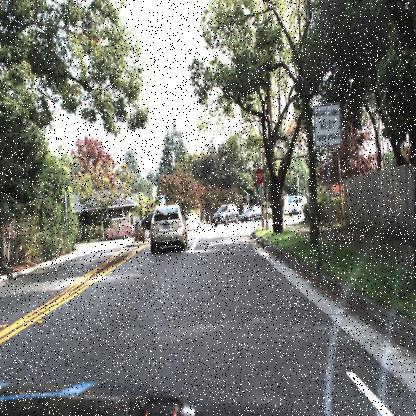car: (148, 202, 192, 251), (212, 198, 242, 226), (287, 189, 312, 216), (237, 203, 264, 225), (184, 207, 204, 232)
